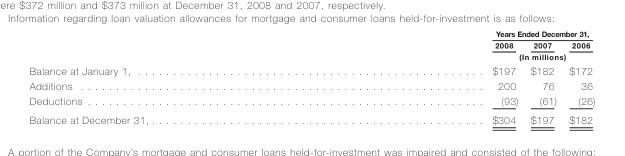table: (28, 28, 594, 125)
table column: (28, 28, 319, 125), (319, 28, 523, 125), (523, 28, 562, 125), (562, 28, 594, 125)
table column header: (28, 28, 594, 62)
table row: (28, 93, 594, 110), (28, 62, 594, 78), (28, 78, 594, 93), (28, 110, 594, 125), (28, 38, 594, 50), (28, 50, 594, 62), (28, 28, 594, 38)
table spanning cell: (319, 50, 594, 62), (319, 28, 594, 38)
